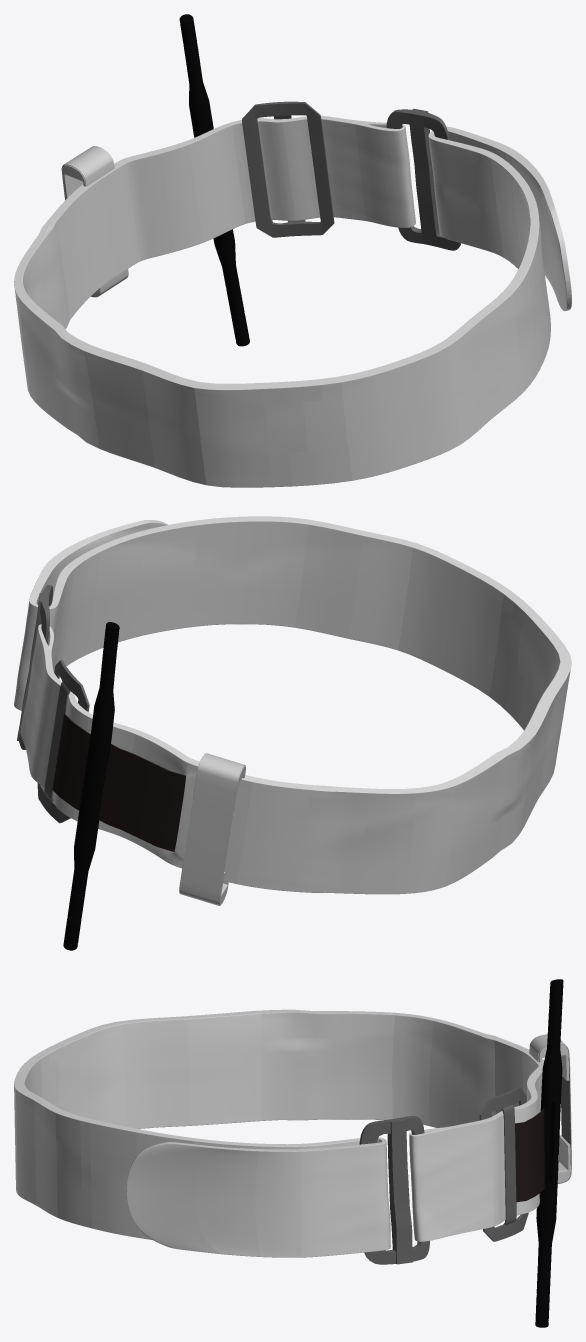
File: TourniquetDivided.fbx
The picture shows the model from 3 angles, top to bottom: view 1: azimuth 30°, elevation 25°; view 2: azimuth 150°, elevation 25°; view 3: azimuth 270°, elevation 25°; orthographic projection. The views are drawn at different scales.
Visible parts, largest first — view 1: tourniquet, tourniquet.001; view 2: tourniquet, tourniquet.001; view 3: tourniquet, tourniquet.001.
Part boxes in pixels (x1,y1,x2,y2): tourniquet: (14, 101, 571, 487); tourniquet.001: (179, 14, 249, 346); tourniquet: (14, 516, 571, 905); tourniquet.001: (63, 622, 119, 950); tourniquet: (14, 1009, 571, 1264); tourniquet.001: (535, 979, 563, 1327).
Size of the model in its own units: 24.16 by 16.46 by 25.68.
